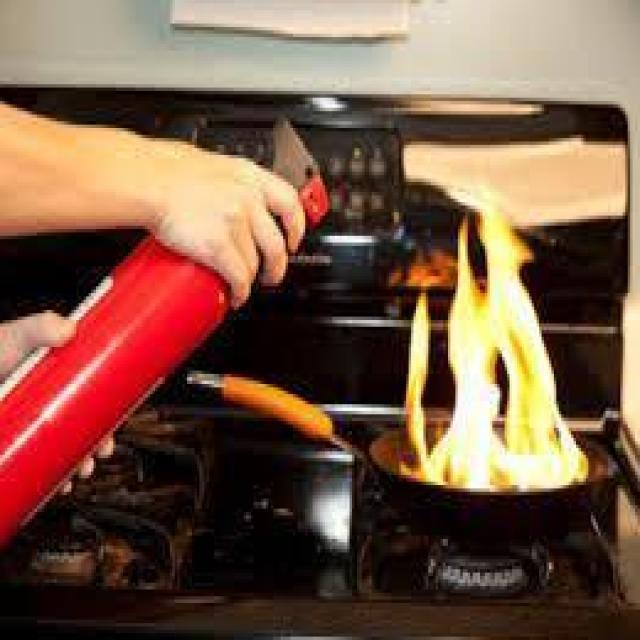smoke: (398, 205, 588, 486)
